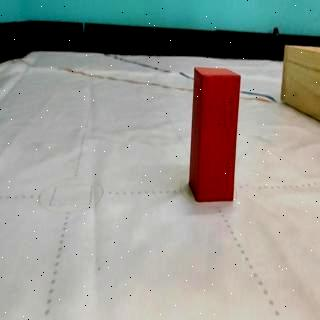redbox: (188, 65, 242, 204)
